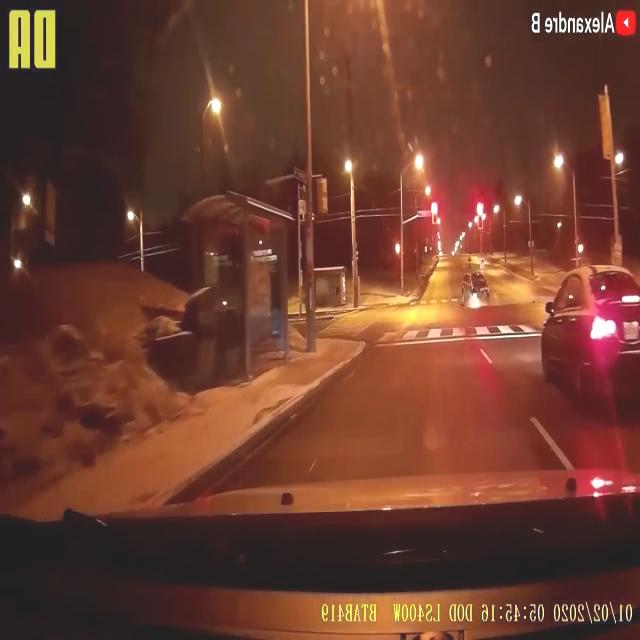accident: (462, 272, 490, 306)
